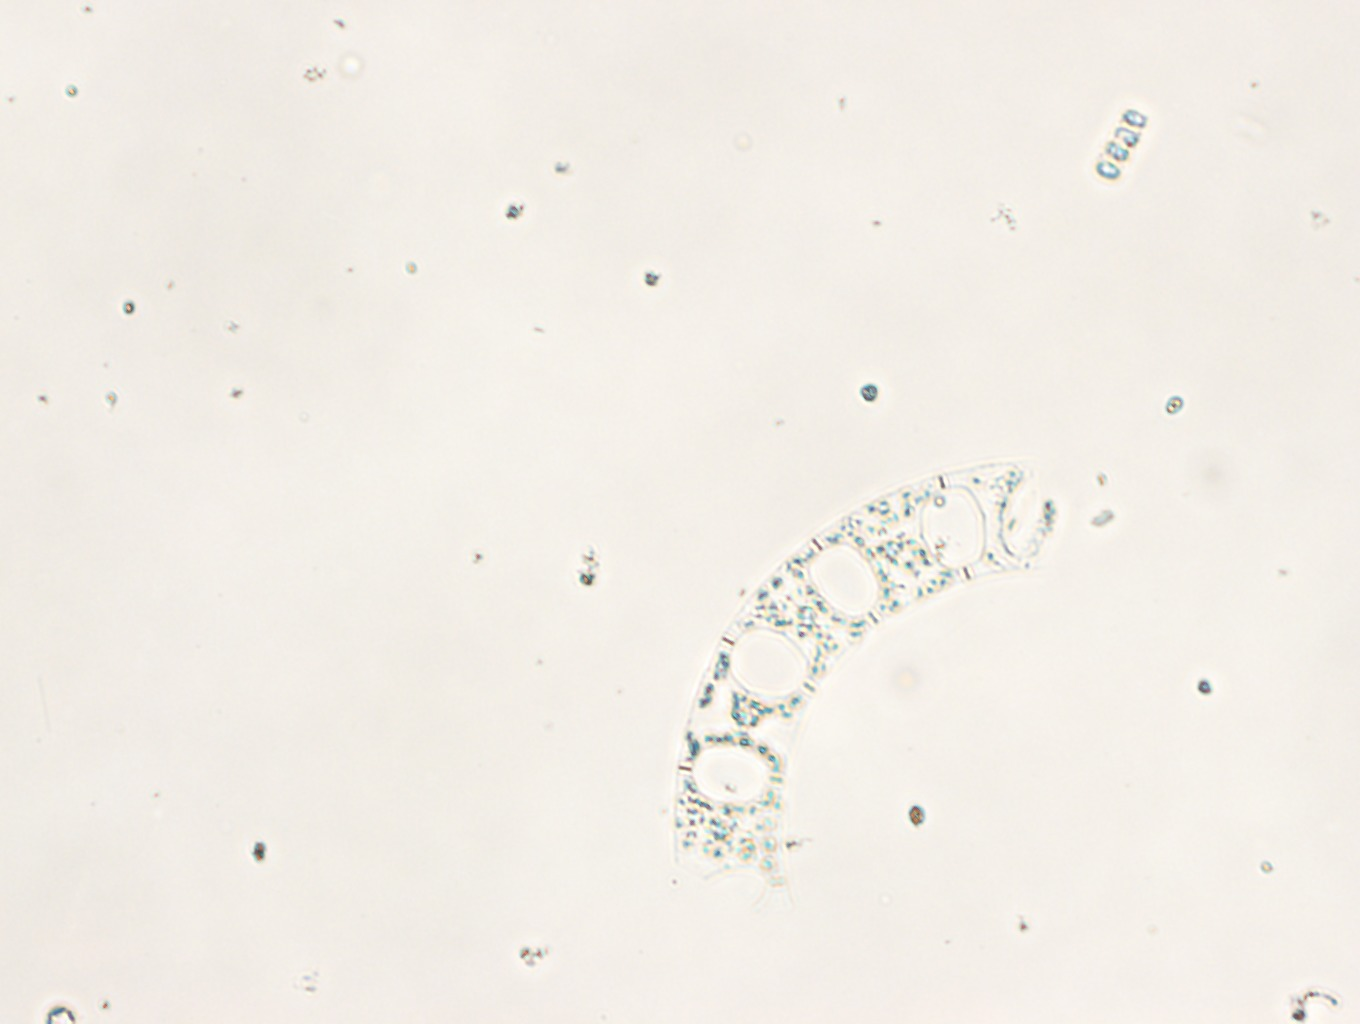eucampia: (674, 463, 1057, 888)
skeletonema: (1094, 106, 1147, 182)
